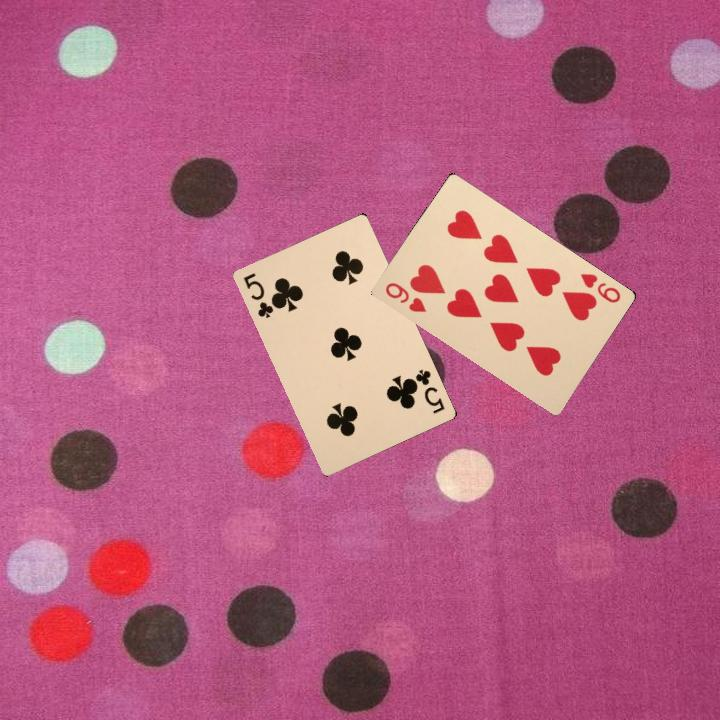5c: (408, 365, 447, 416), (239, 269, 276, 320)
9h: (381, 278, 429, 315), (576, 269, 623, 306)
